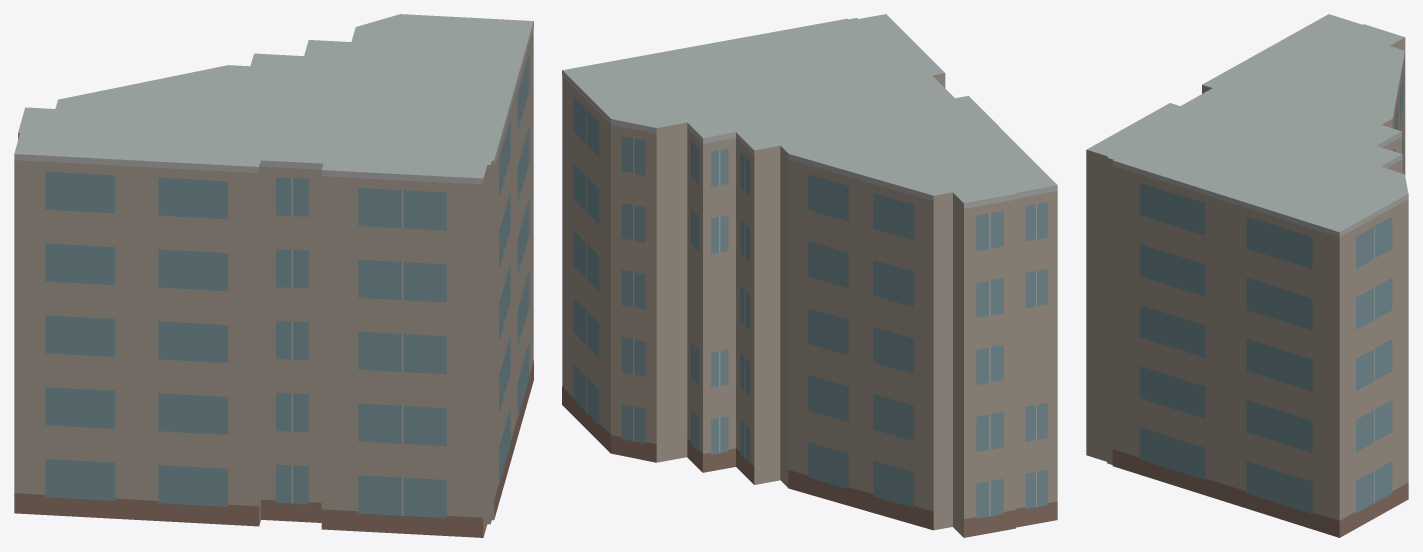
Rendered from survey-upis-32732602.glb.
3 views of the same model, side by side, from view 1: azimuth 30°, elevation 25°; view 2: azimuth 150°, elevation 25°; view 3: azimuth 270°, elevation 25° (orthographic). The views are drawn at different scales.
Visible parts, largest first — view 1: survey-upis-32732602.tmp; view 2: survey-upis-32732602.tmp; view 3: survey-upis-32732602.tmp.
Boxes of the visible parts, x1,y1,x2,y2 form: survey-upis-32732602.tmp: (14, 14, 533, 537); survey-upis-32732602.tmp: (562, 14, 1057, 537); survey-upis-32732602.tmp: (1086, 14, 1408, 537).
Bounding box in the file's own units: 21.91 × 14.3 × 13.67.
